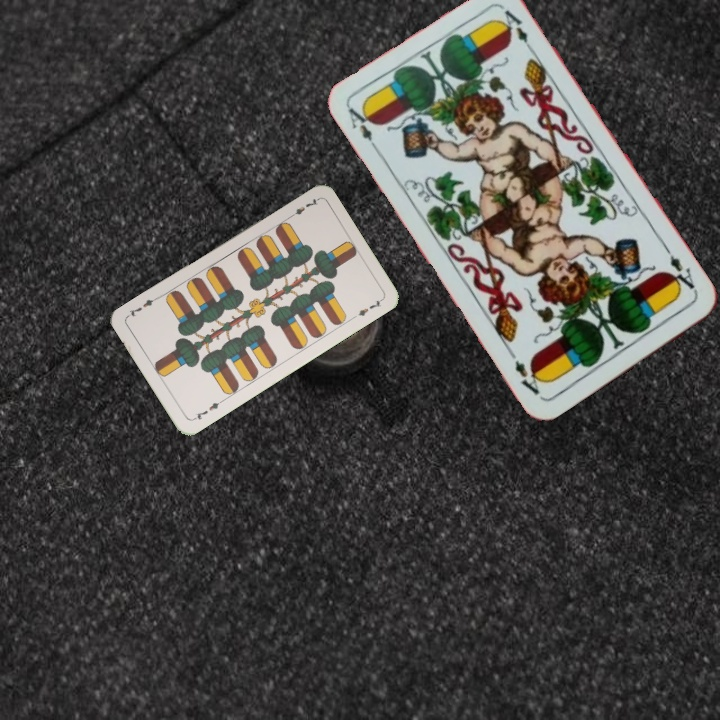E7: (189, 396, 225, 423), (284, 194, 320, 221)
EA: (344, 102, 383, 156), (661, 244, 700, 296)
